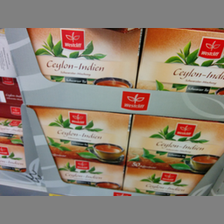tea: (27, 28, 143, 89), (136, 29, 224, 96), (127, 114, 224, 174), (29, 107, 130, 164)
